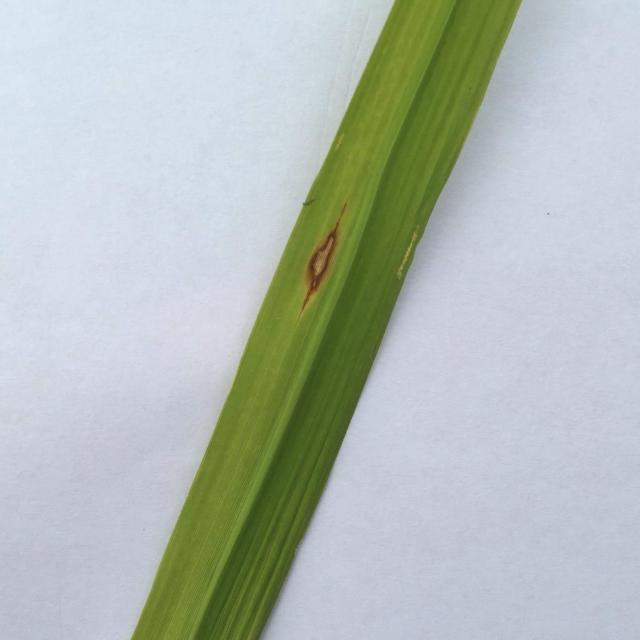Blast: (303, 220, 347, 302)
